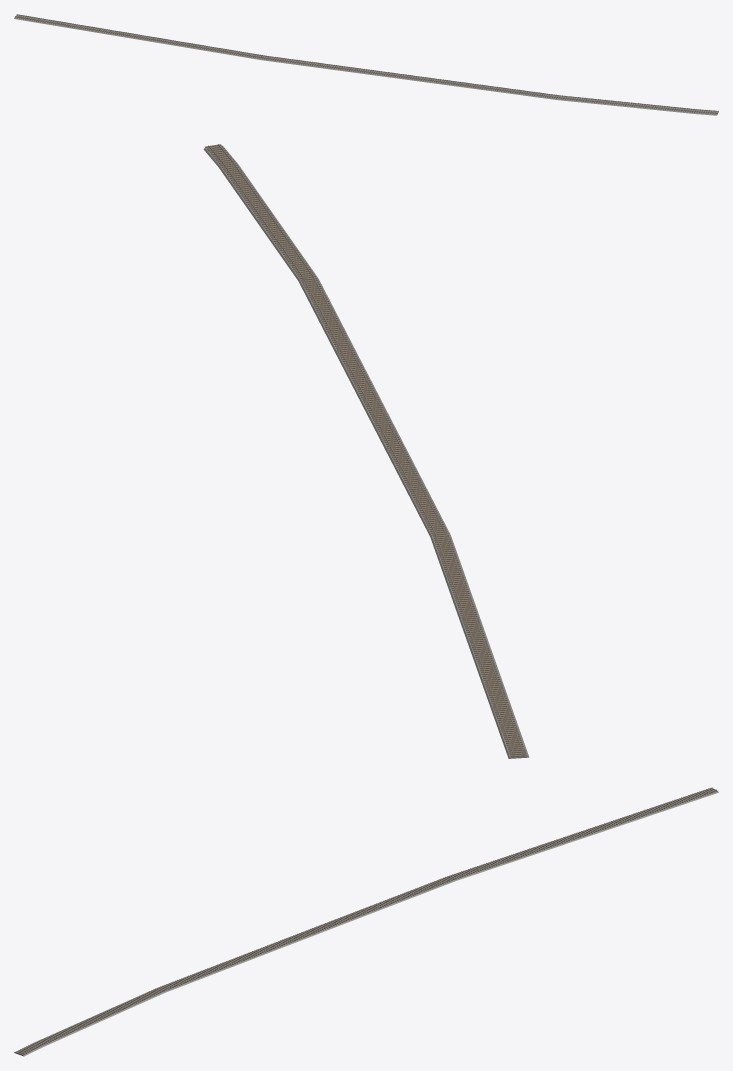
File: rail_01216.glb
3 renders of one model, top to bottom at view 1: azimuth 30°, elevation 25°; view 2: azimuth 150°, elevation 25°; view 3: azimuth 270°, elevation 25°, orthographic. The views are drawn at different scales.
Parts seen in each view (by area): view 1: Ballast, Sleepers, Rails; view 2: Sleepers, Ballast, Rails; view 3: Ballast, Sleepers, Rails.
Part boxes in pixels (bbox=[...]): Ballast: bbox=[14, 15, 717, 115]; Sleepers: bbox=[14, 15, 718, 114]; Rails: bbox=[15, 14, 717, 113]; Sleepers: bbox=[205, 144, 527, 757]; Ballast: bbox=[203, 145, 529, 758]; Rails: bbox=[208, 144, 524, 755]; Ballast: bbox=[14, 788, 718, 1056]; Sleepers: bbox=[14, 787, 717, 1055]; Rails: bbox=[16, 787, 716, 1054].
Bounding box in the file's own units: 142 × 0.48 × 158.
